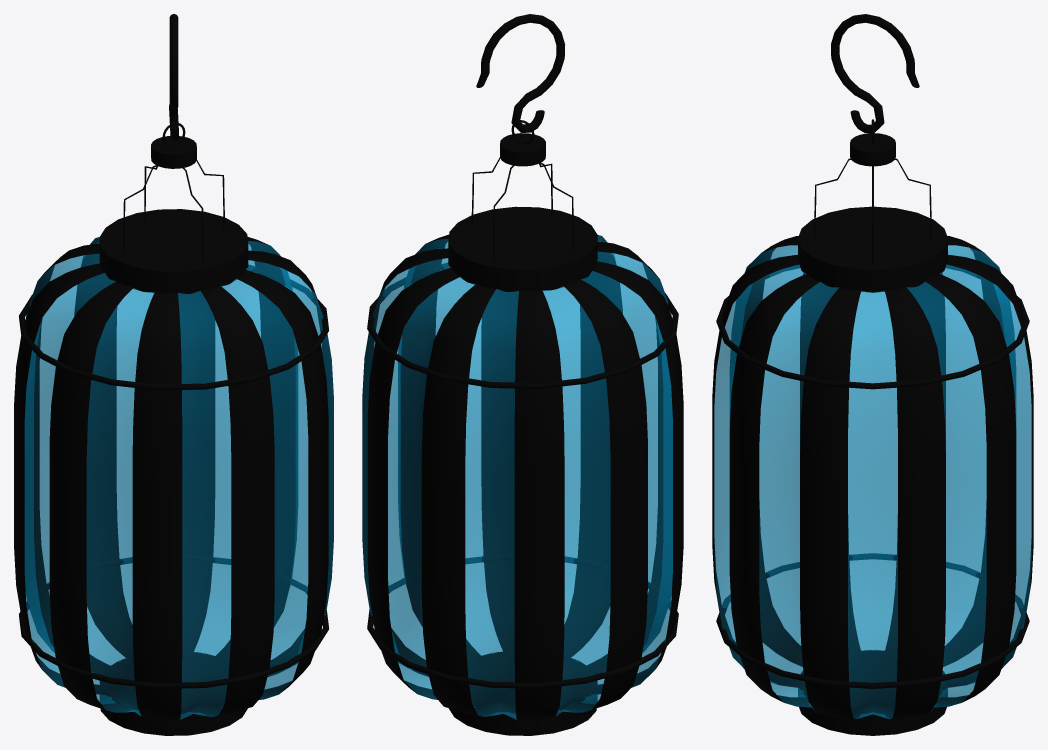
Rendered from Lantern3.fbx.
The picture shows the model from 3 angles, left to right: view 1: azimuth 30°, elevation 25°; view 2: azimuth 150°, elevation 25°; view 3: azimuth 270°, elevation 25°; orthographic projection.
Visible parts, largest first — view 1: Lantern3; view 2: Lantern3; view 3: Lantern3.
Boxes of the visible parts, x1,y1,x2,y2 form: Lantern3: (14, 14, 333, 735); Lantern3: (362, 14, 683, 735); Lantern3: (712, 14, 1033, 735).
Bounding box in the file's own units: 2.67 × 6.39 × 2.71.
